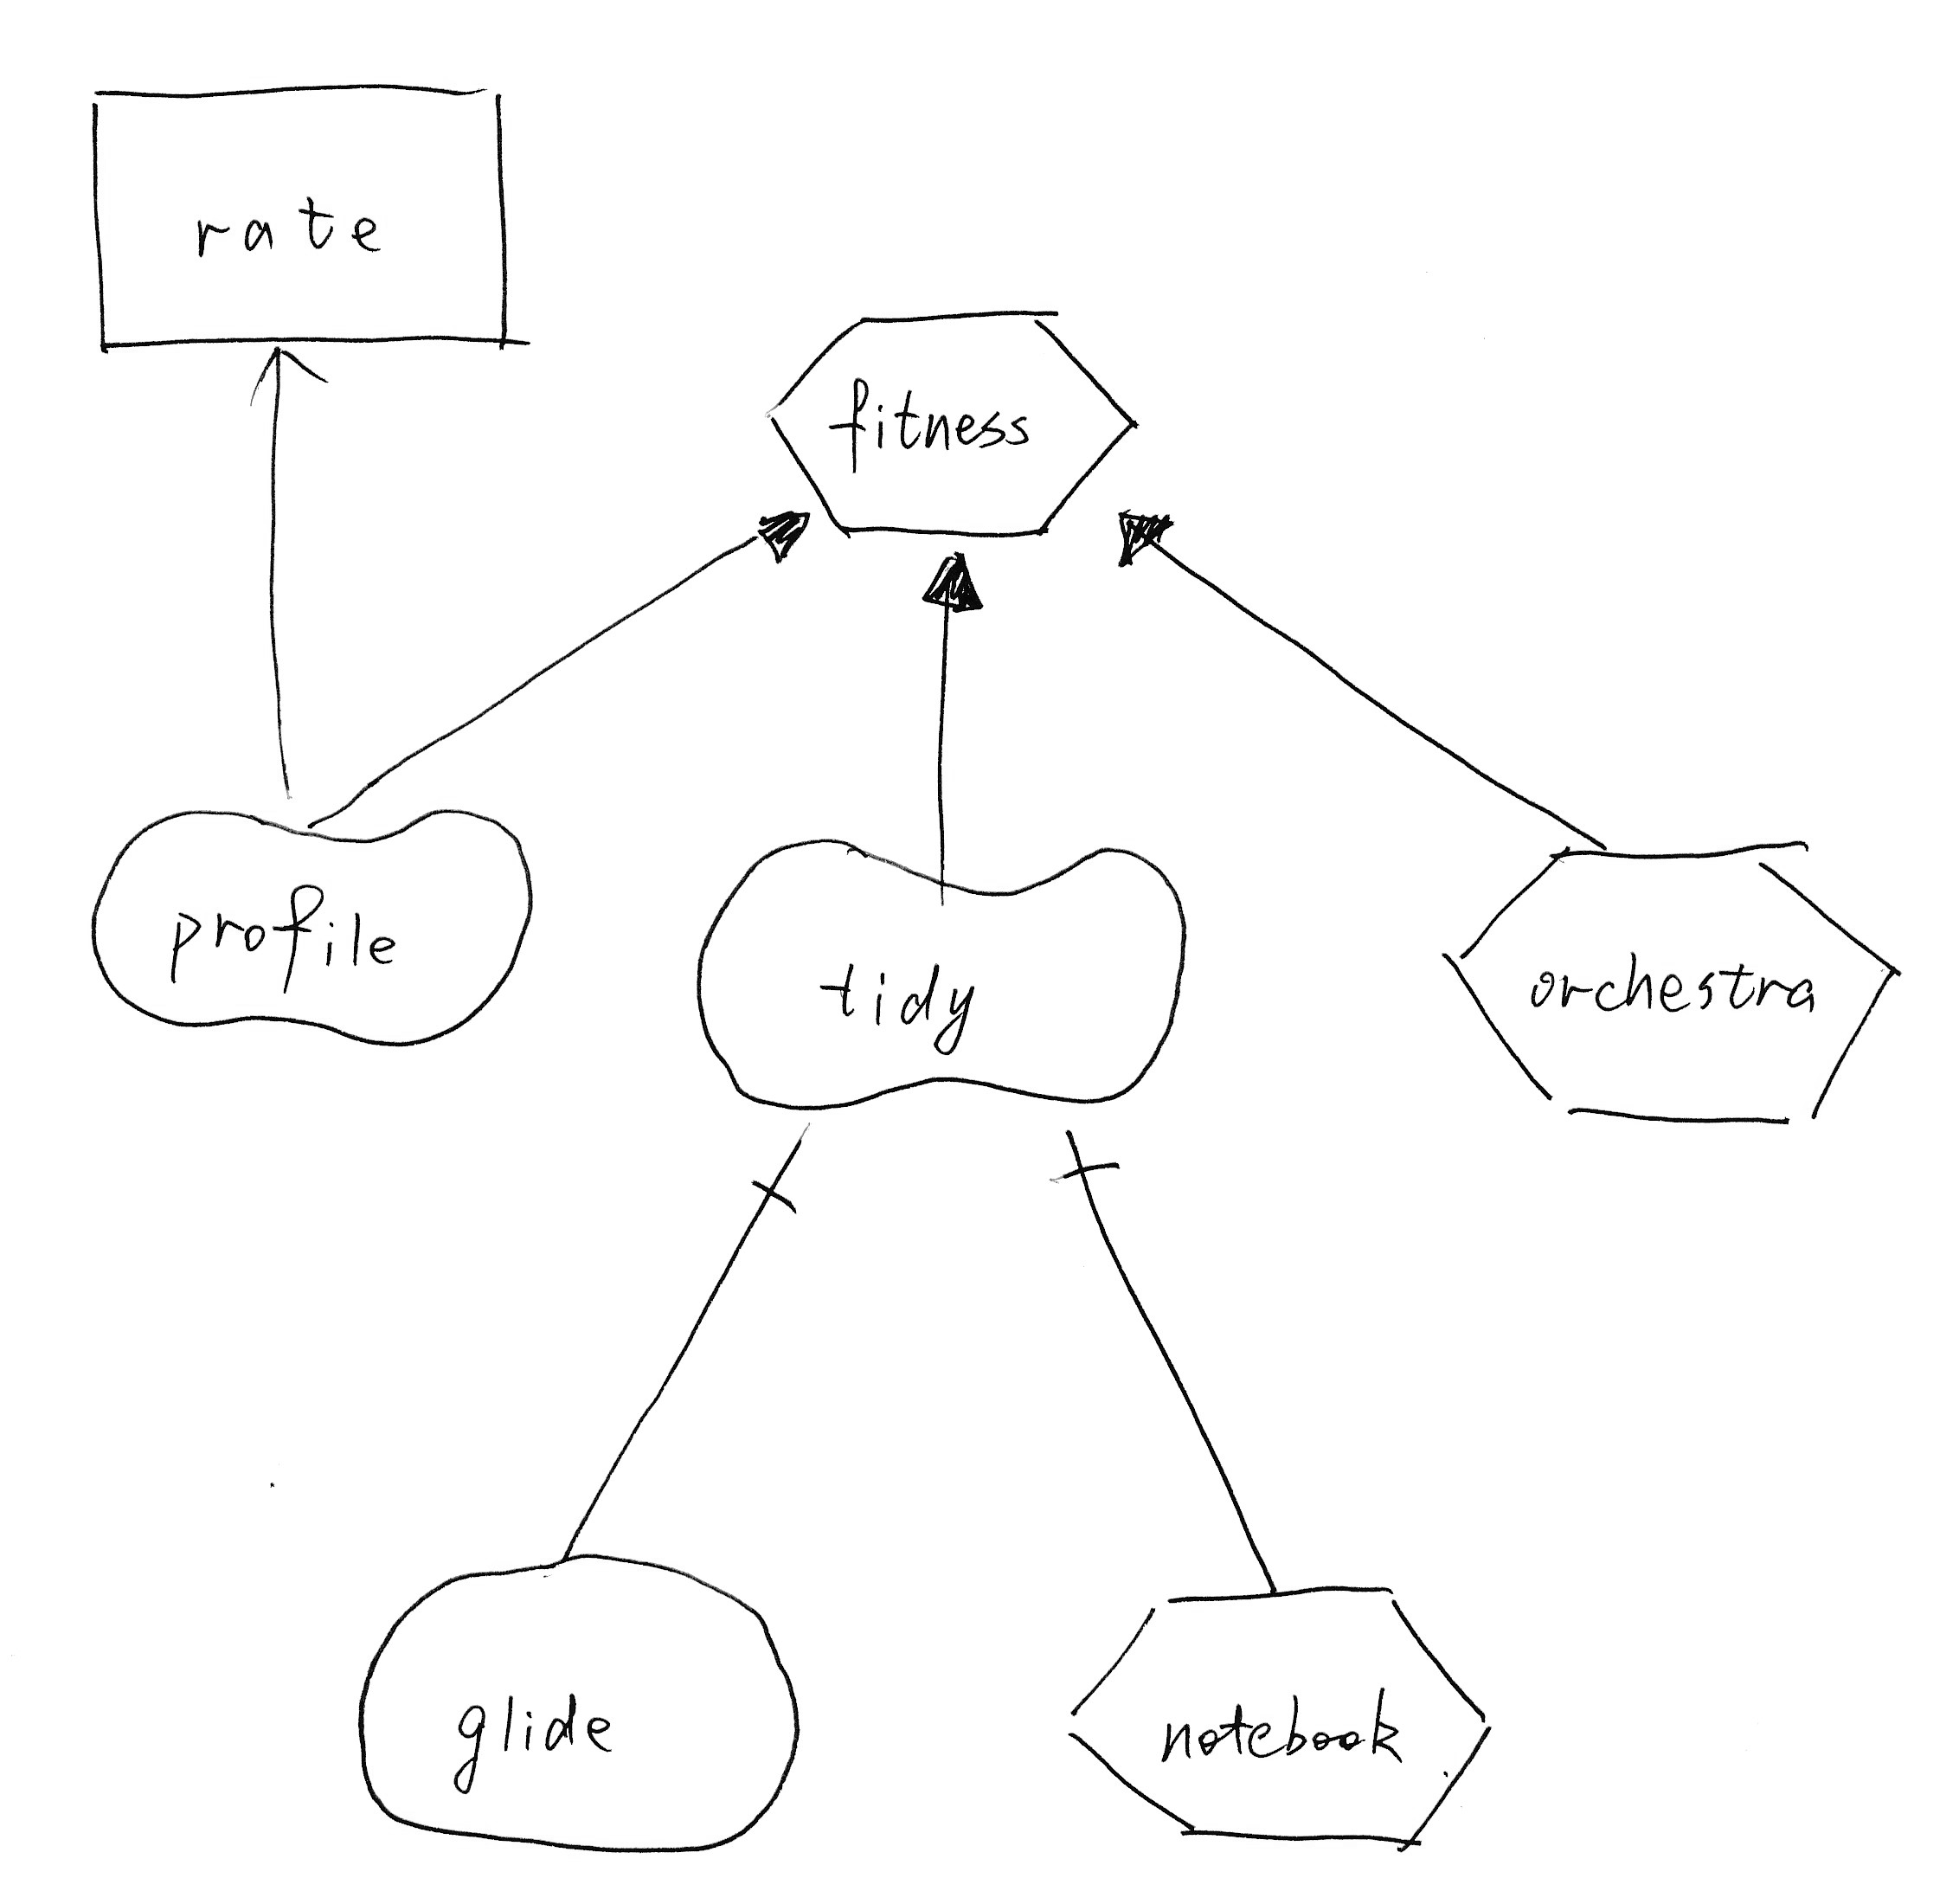and: (740, 1139, 824, 1241), (1046, 1127, 1137, 1220)
arrow: (236, 338, 338, 411)
goal: (343, 1535, 813, 1871)
or: (1100, 490, 1202, 583), (911, 539, 993, 630), (738, 492, 822, 579)
quality: (682, 822, 1203, 1120), (65, 791, 547, 1062)
resource: (70, 61, 540, 380)
task: (1427, 814, 1922, 1153), (1044, 1570, 1509, 1865), (747, 287, 1153, 565)
